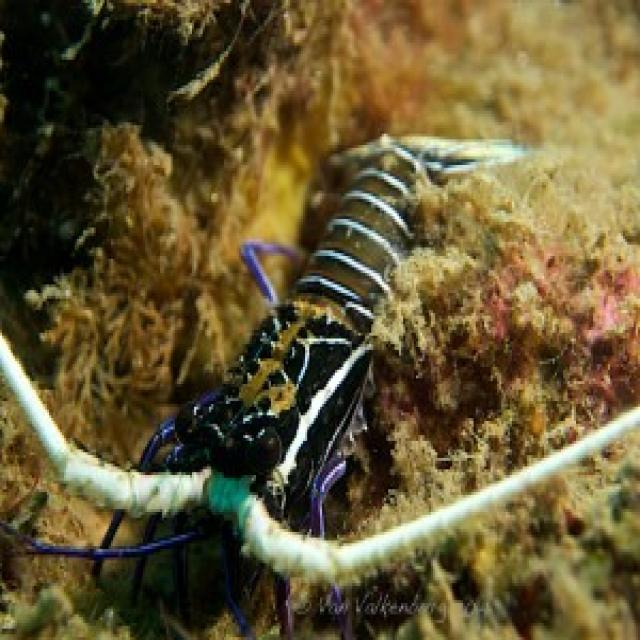lobsters: (0, 12, 640, 637)
